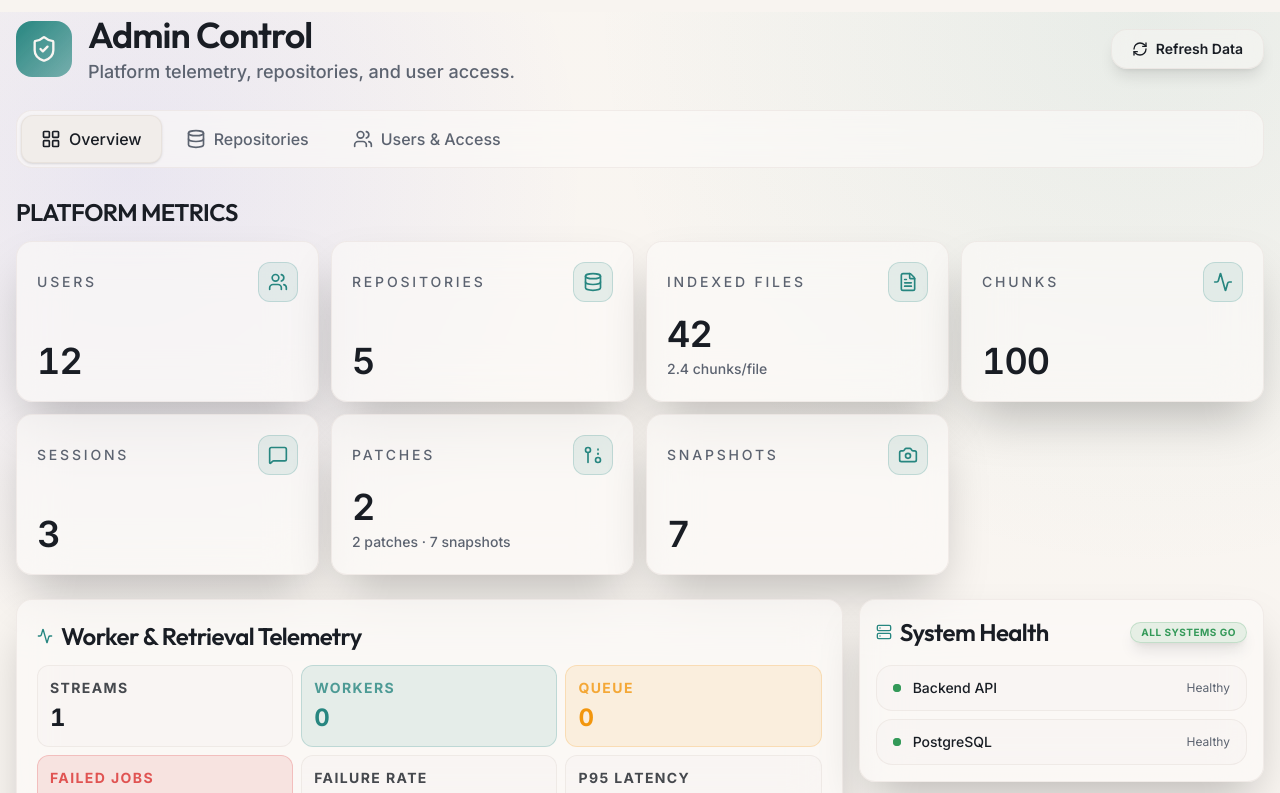
Test case: AdminDashboardPage › renders users on users tab
The width and height of the screenshot is (1280, 793).
Click the button "Users & Access" at (427, 139), box [333,115,521,163]
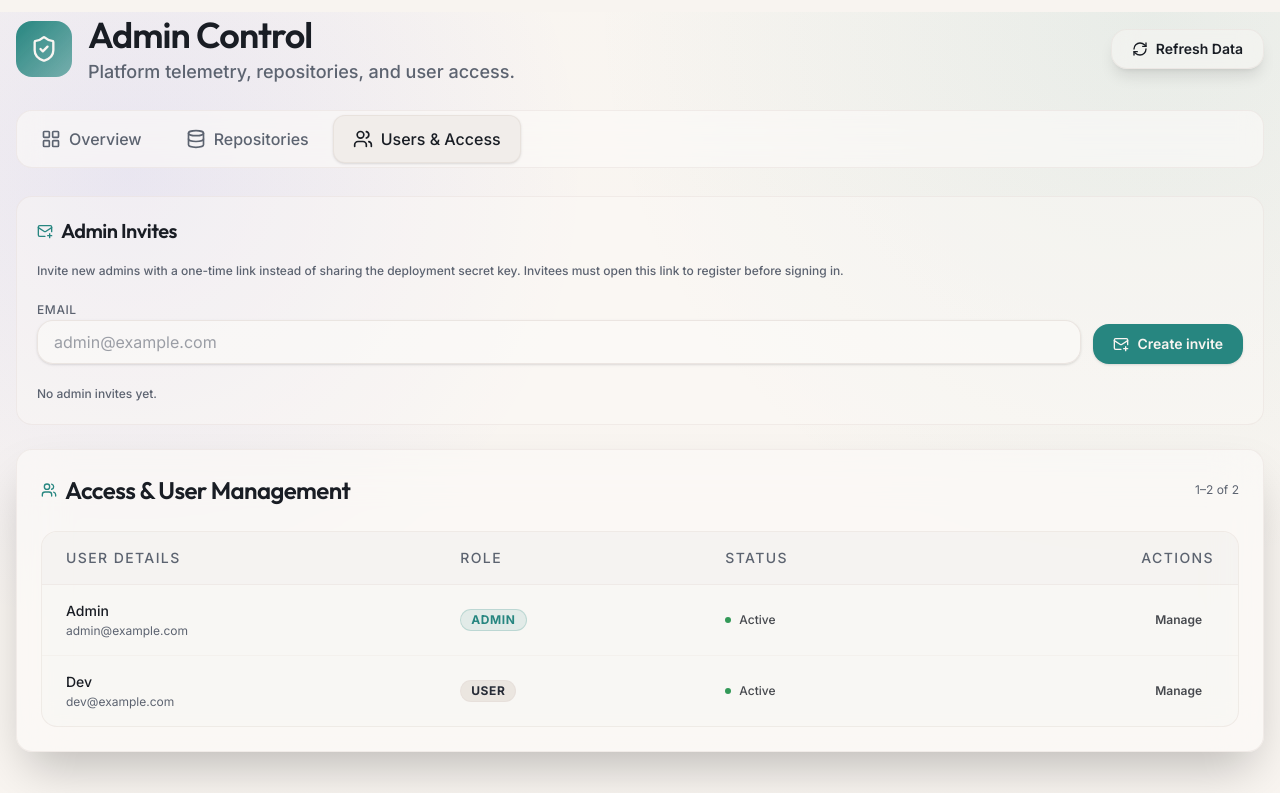
Now the heading "Access & User Management" is shown, box [65,474,350,507]
Now the text "admin@example.com" is shown, box [66,623,188,638]
